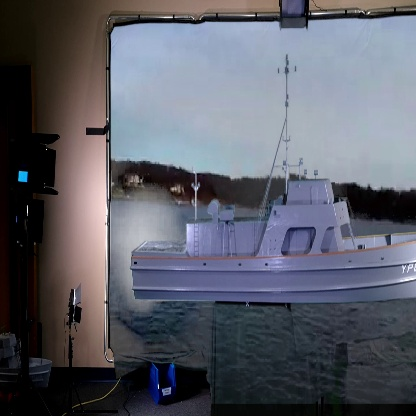YP689: (128, 48, 416, 303)
